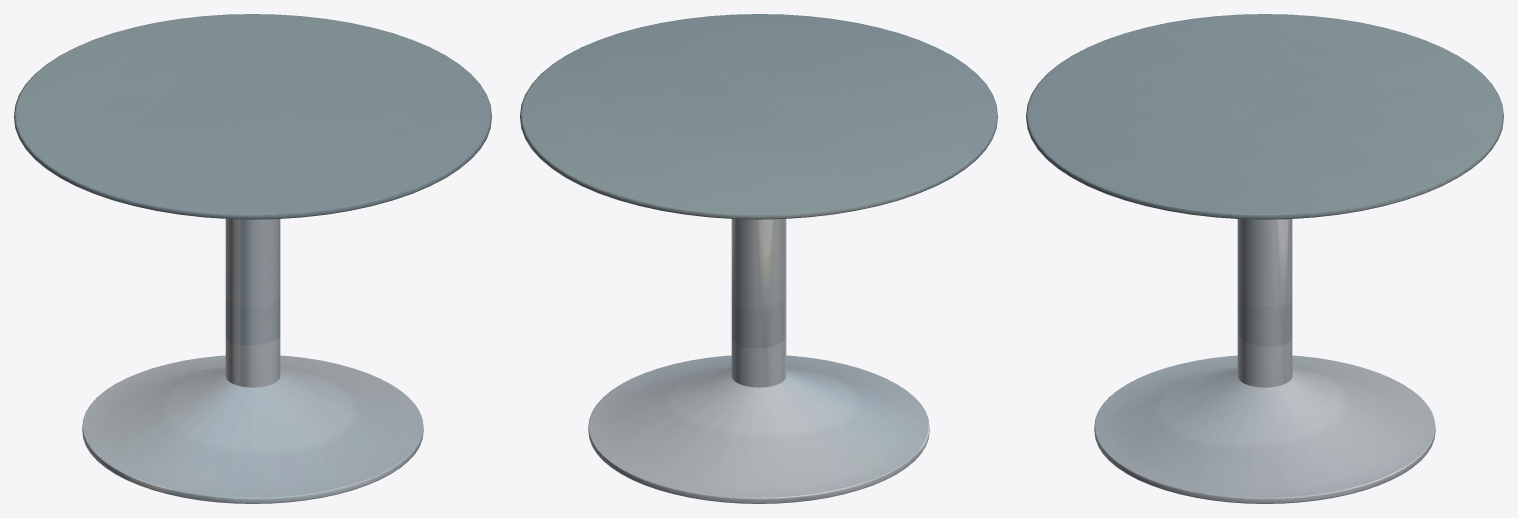
The model's file is fermo_50_chrom_70_glass_chrome_plated.glb.
The picture shows the model from 3 angles, left to right: view 1: azimuth 30°, elevation 25°; view 2: azimuth 150°, elevation 25°; view 3: azimuth 270°, elevation 25°; orthographic projection.
Parts seen in each view (by area): view 1: glass, fermo_50_chrom_o70-frosted_glass; view 2: glass, fermo_50_chrom_o70-frosted_glass; view 3: glass, fermo_50_chrom_o70-frosted_glass.
Part boxes in pixels (bbox=[...]): glass: bbox=[14, 14, 491, 219]; fermo_50_chrom_o70-frosted_glass: bbox=[82, 219, 423, 503]; glass: bbox=[520, 14, 997, 219]; fermo_50_chrom_o70-frosted_glass: bbox=[588, 219, 929, 503]; glass: bbox=[1026, 14, 1503, 219]; fermo_50_chrom_o70-frosted_glass: bbox=[1094, 219, 1435, 503].
Bounding box in the file's own units: 0.7002 × 0.5142 × 0.7002.
2 materials, 2 textured.
